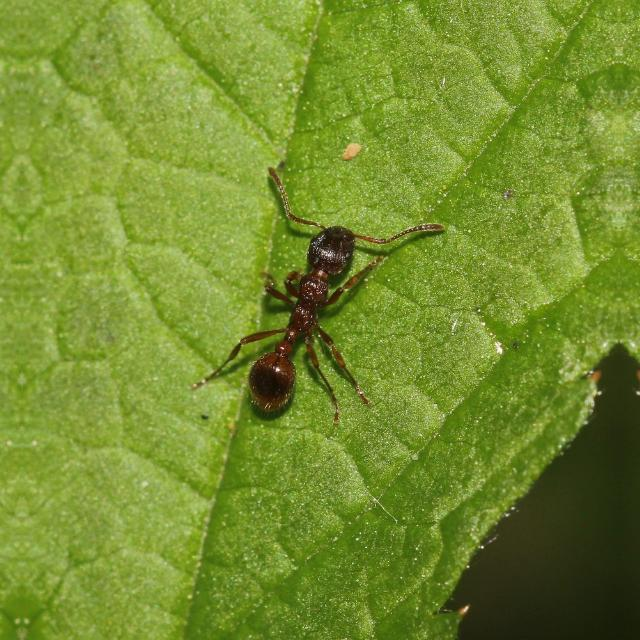Myrmica: (213, 148, 389, 454)
